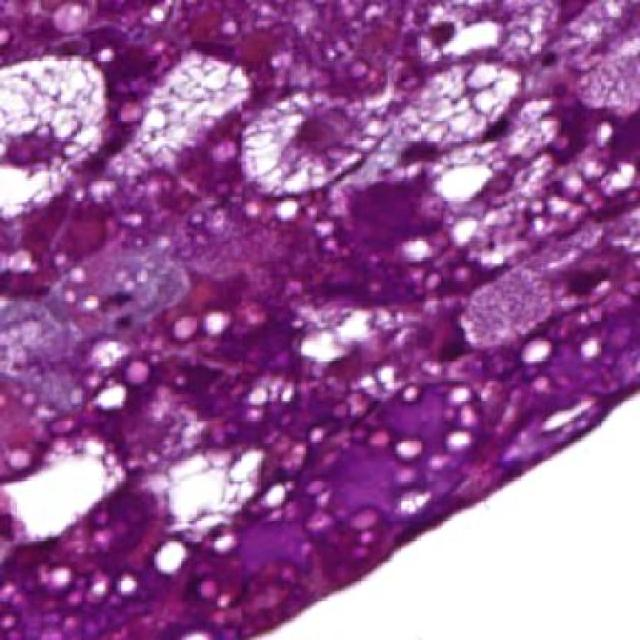ballooning: (237, 89, 375, 198), (394, 56, 525, 156)
